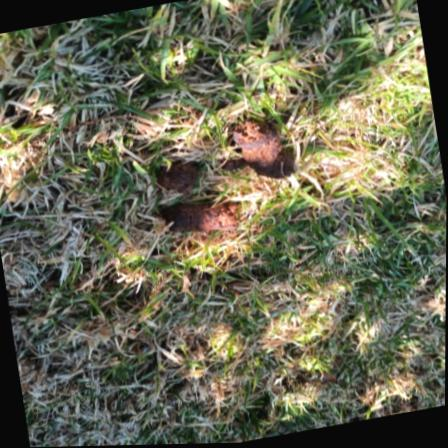dog-poop: (144, 100, 307, 246)
